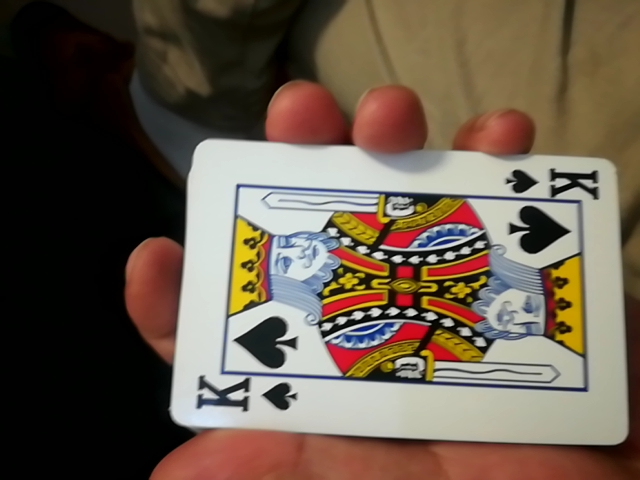ht k: (153, 133, 623, 457)
